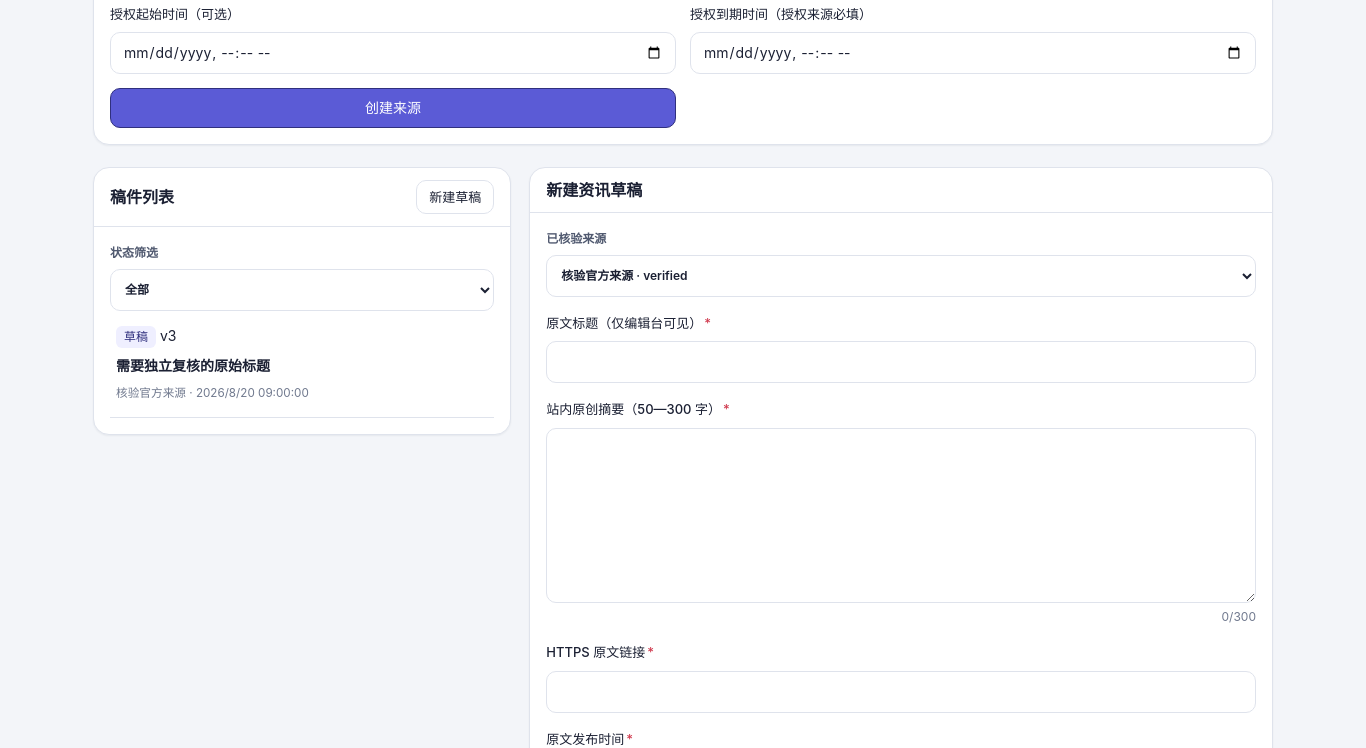
Test: community news admin page › loads real sources and drafts, and surfaces a 409 without overwriting the server version
This screenshot has width=1366, height=748.
(page scrolled)
Step 1. Click the button "草稿 v3 需要独立复核的原始标题 核验官方来源 · 2026/8/20 09:00:00" → click(136, 337), box [110,311,494,418]
(page scrolled)
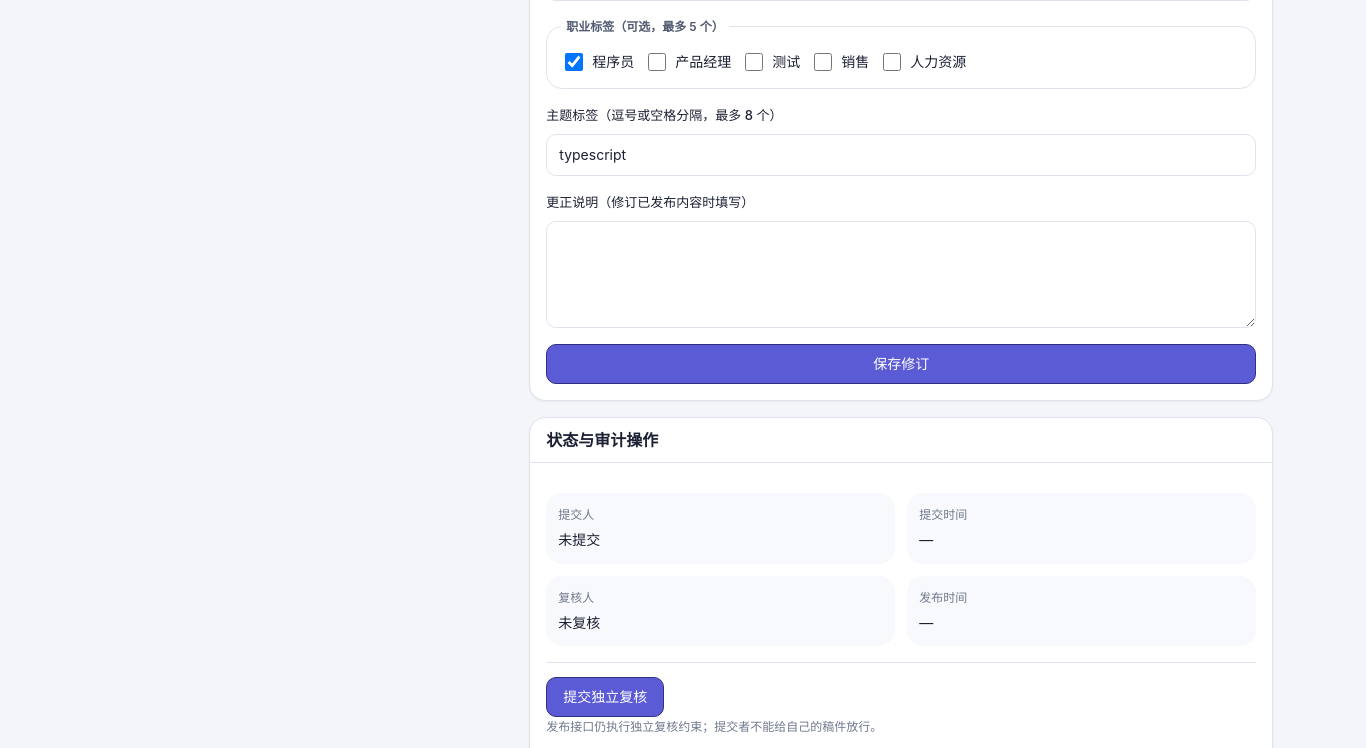
Step 2. Click the button "保存修订" → click(901, 364), box [546,344,1256,384]
(page scrolled)
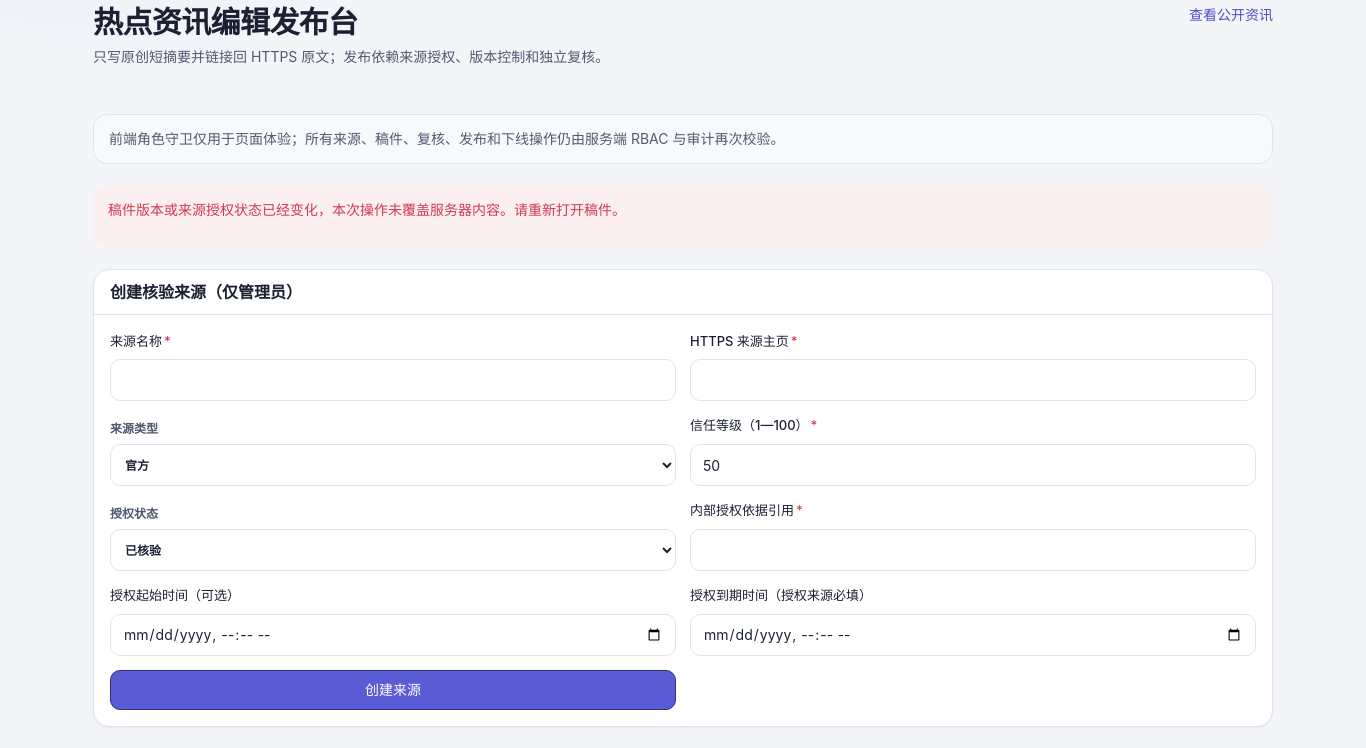
Expected: the text "稿件版本或来源授权状态已经变化，本次操作未覆盖服务器内容。请重新打开稿件。" is shown, [108,201,626,218]
